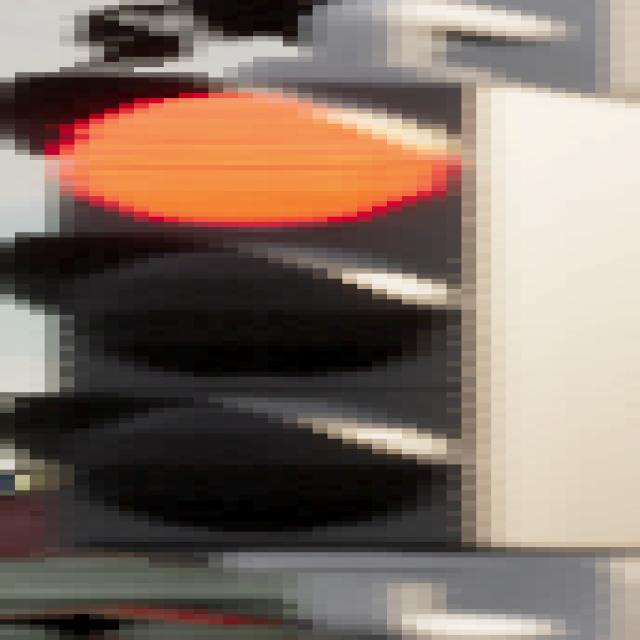red_light: (0, 81, 547, 557)
